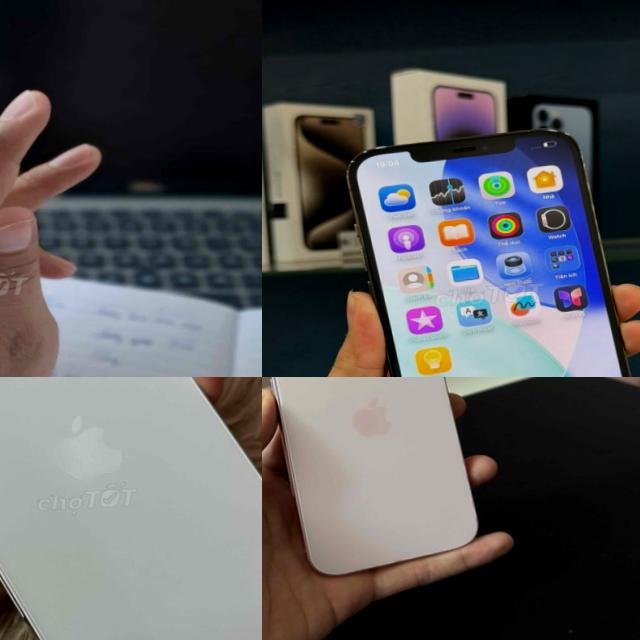gen_12_13: (346, 124, 640, 377)
gen_15: (262, 377, 498, 591)
gen_16: (0, 377, 262, 640)
